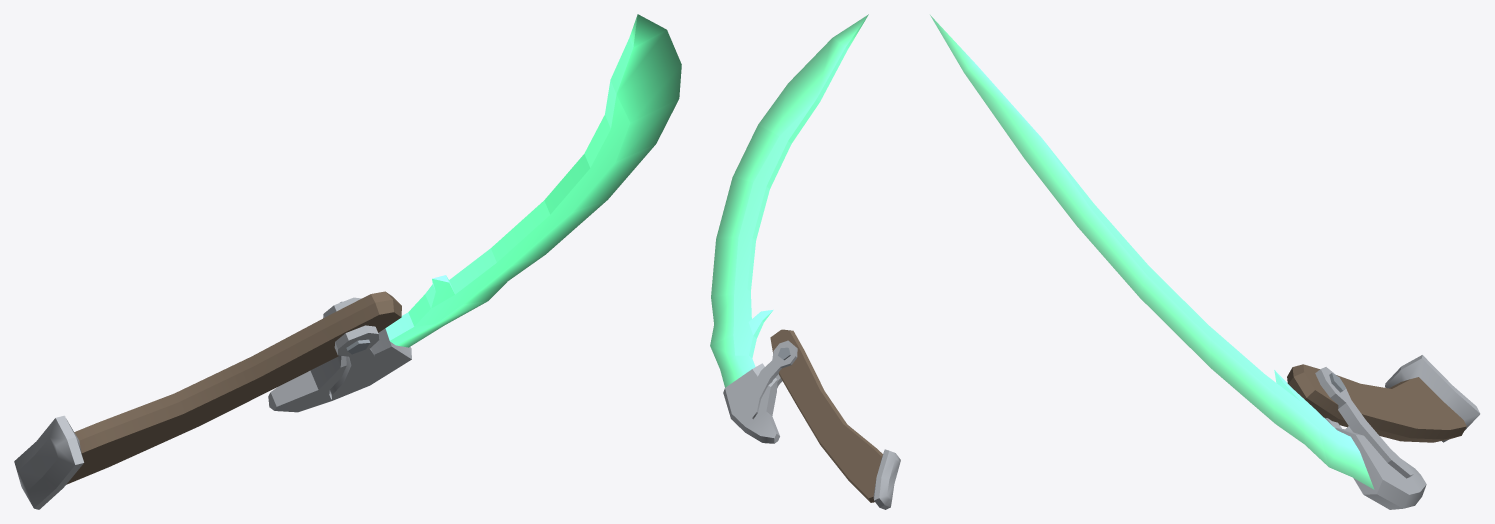
File: er-dagger-03.glb
3 views of the same model, side by side, from view 1: azimuth 30°, elevation 25°; view 2: azimuth 150°, elevation 25°; view 3: azimuth 270°, elevation 25° (orthographic). The views are drawn at different scales.
Parts seen in each view (by area): view 1: er-dagger-03; view 2: er-dagger-03; view 3: er-dagger-03.
Part boxes in pixels (box(x1,y1,x2,y2)): er-dagger-03: box(14, 14, 681, 509); er-dagger-03: box(710, 14, 900, 509); er-dagger-03: box(930, 15, 1480, 509).
Size of the model in its own units: 0.279 by 0.3621 by 0.3188.
1 material, 1 textured.
